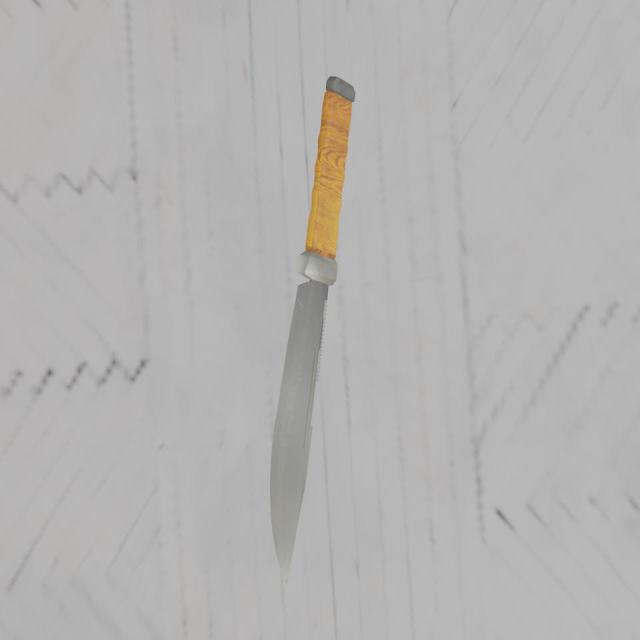knife: (312, 82, 356, 282)
